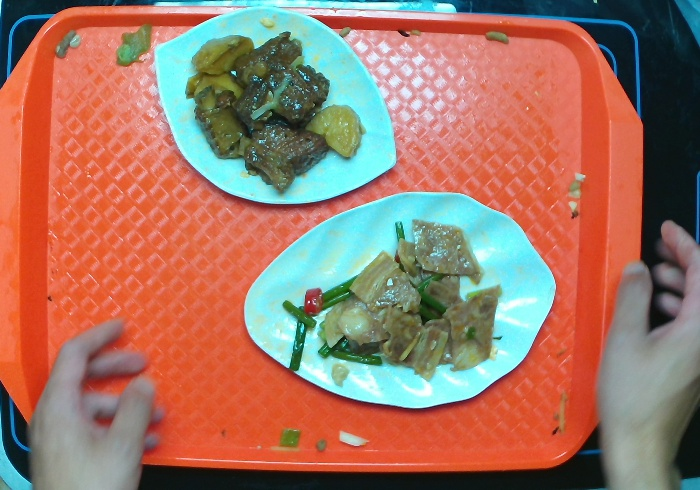RJxy-Bai_Ye_Pan: (239, 190, 559, 412)
RJxy-Da_Du_Pan: (151, 2, 403, 210)
